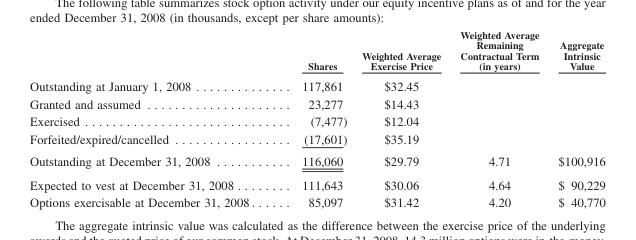table: (29, 28, 604, 209)
table column: (29, 28, 277, 209), (449, 28, 548, 209), (353, 28, 449, 209), (277, 28, 353, 209), (548, 28, 604, 209)
table column header: (29, 28, 604, 74)
table row: (29, 28, 604, 74), (29, 149, 604, 172), (29, 172, 604, 193), (29, 74, 604, 94), (29, 130, 604, 149), (29, 94, 604, 112), (29, 112, 604, 130), (29, 193, 604, 209)
